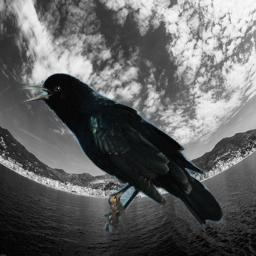Crow: (22, 73, 223, 233)
